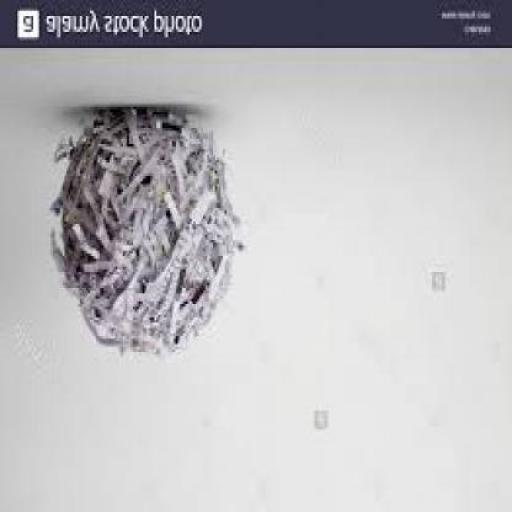paper: (47, 109, 242, 360)
